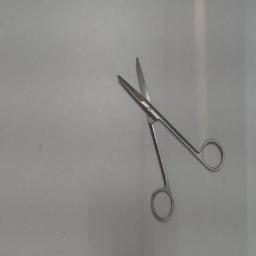Curved Mayo Scissors: (112, 50, 228, 226)
